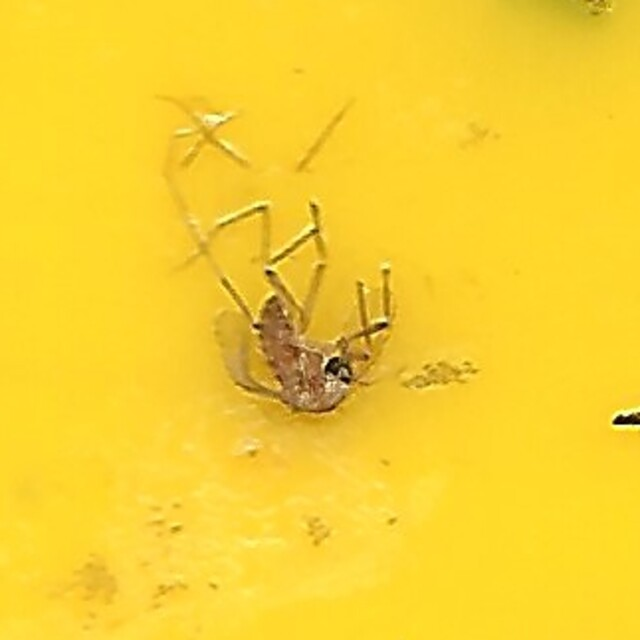Nematocera: (198, 205, 442, 435)
